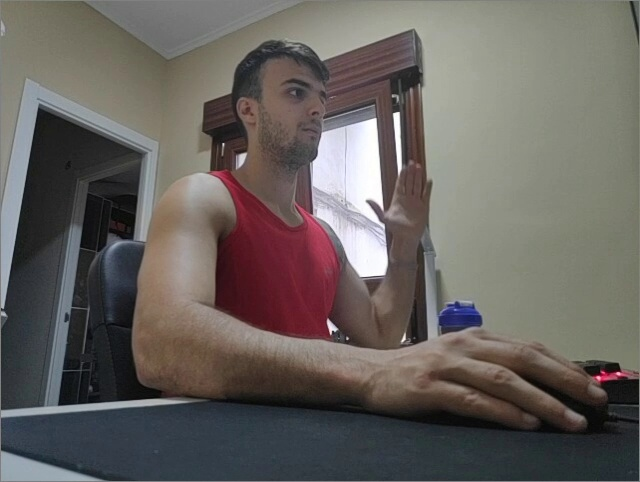Palm: (364, 159, 433, 243)
